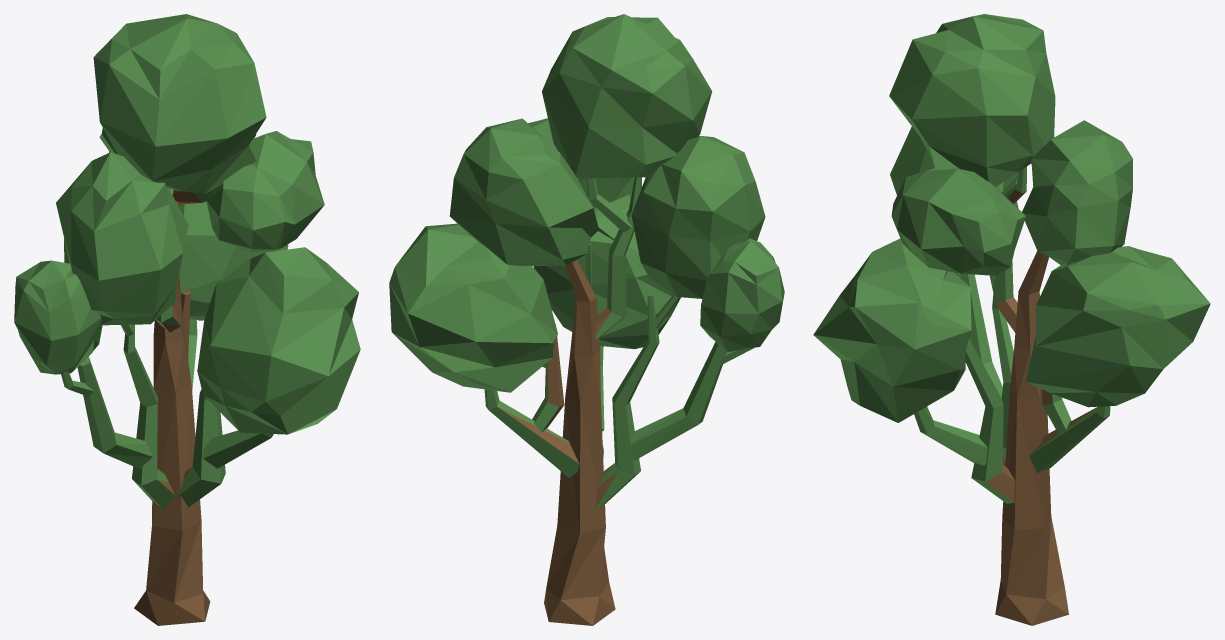
The model's file is tree3d-121.glb.
The picture shows the model from 3 angles, left to right: view 1: azimuth 30°, elevation 25°; view 2: azimuth 150°, elevation 25°; view 3: azimuth 270°, elevation 25°; orthographic projection. The views are drawn at different scales.
Parts seen in each view (by area): view 1: tree3d-121; view 2: tree3d-121; view 3: tree3d-121.
Part boxes in pixels (left/top/right/bottom): tree3d-121: left=14, top=14, right=360, bottom=625; tree3d-121: left=389, top=14, right=784, bottom=625; tree3d-121: left=813, top=14, right=1210, bottom=625.
Size of the model in its own units: 0.5538 by 1 by 0.6163.
